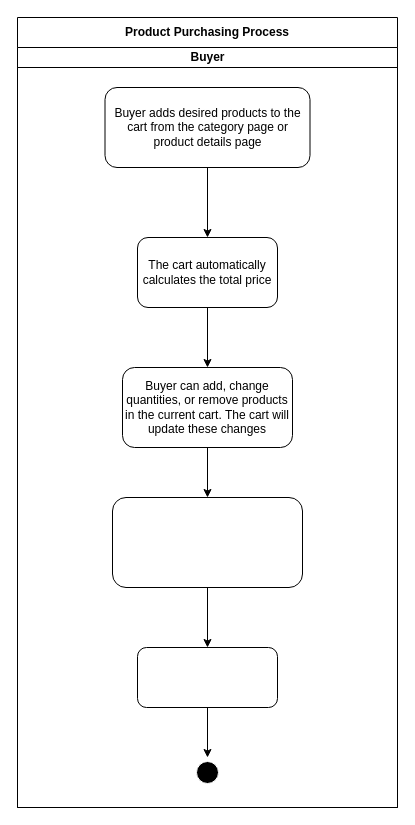
Some shapes in this 415 by 825 pixel diagram are drawn without their labels. The shapes that lost their labels are listed below. From the top down, each one's centre as x and y in pixels, then its label:
At pixel 207 542: "Buyer can shop as desired until satisfied, then proceed to checkout".
At pixel 207 677: "Buyer fills in shipping information and completes payment".
